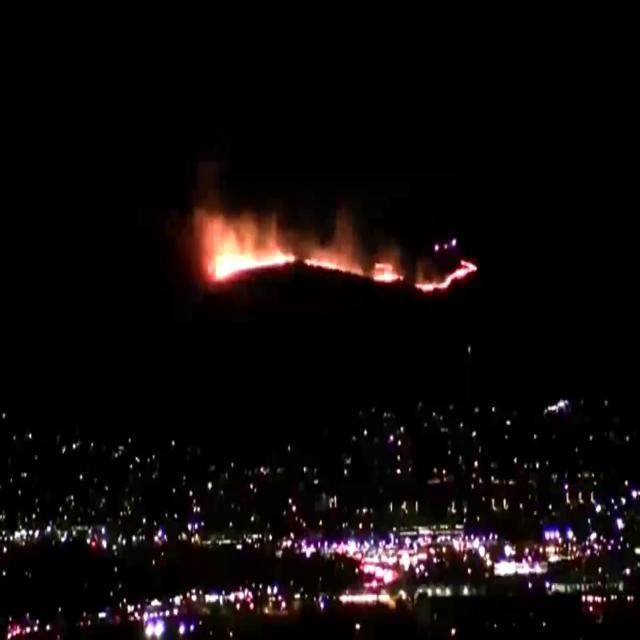Fire: (207, 214, 296, 277), (302, 241, 362, 279), (414, 258, 478, 292), (372, 258, 405, 287)
